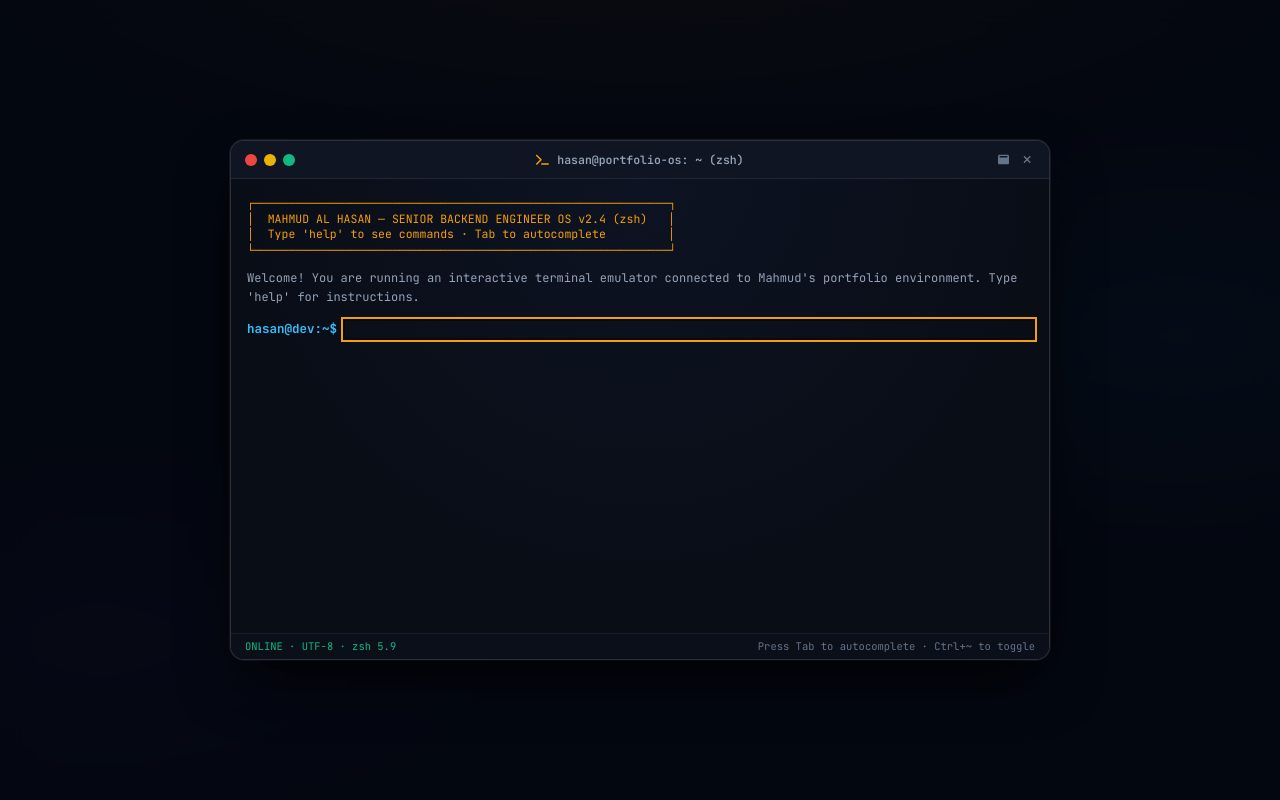
Test case: Terminal Component › executes help command and displays available commands
Type "help" into the field named "Terminal command prompt" at [689, 329], box [345,321,1033,338]
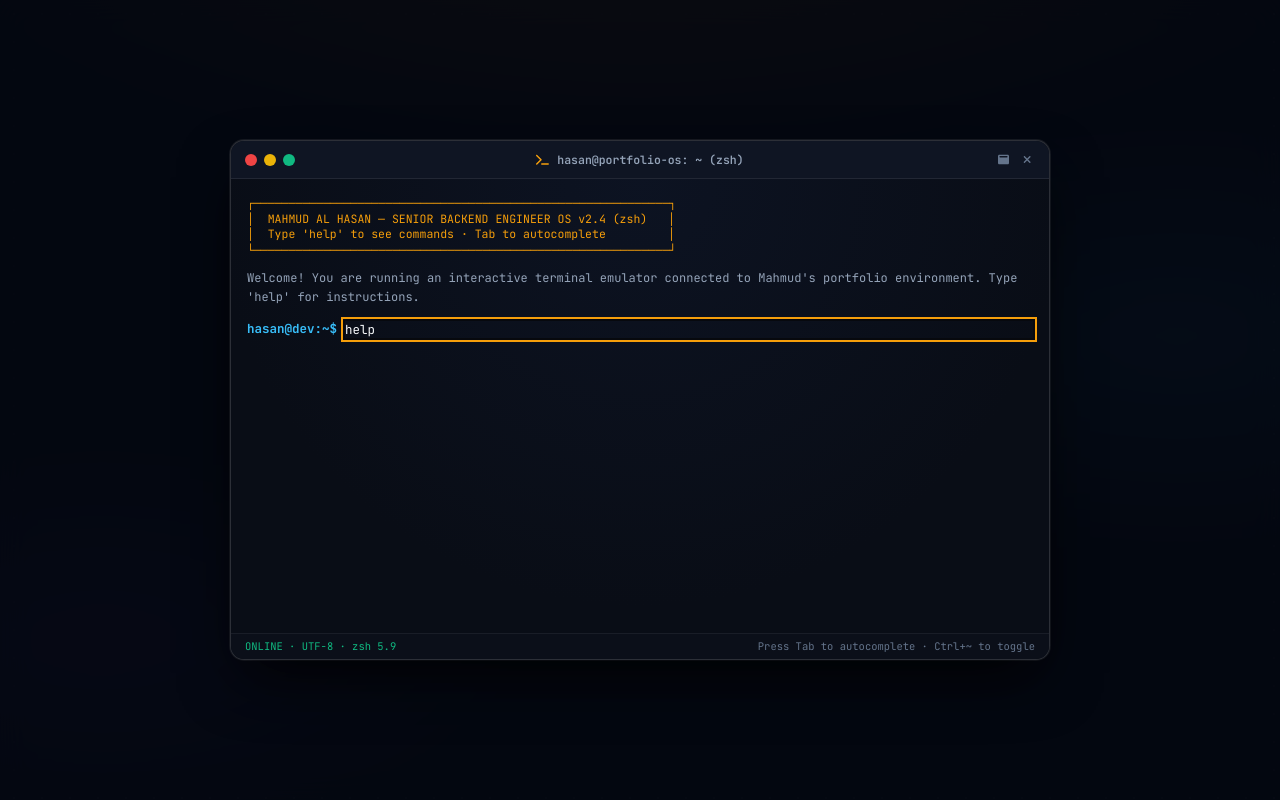
Press Enter in the field named "Terminal command prompt", box [345,321,1033,338]
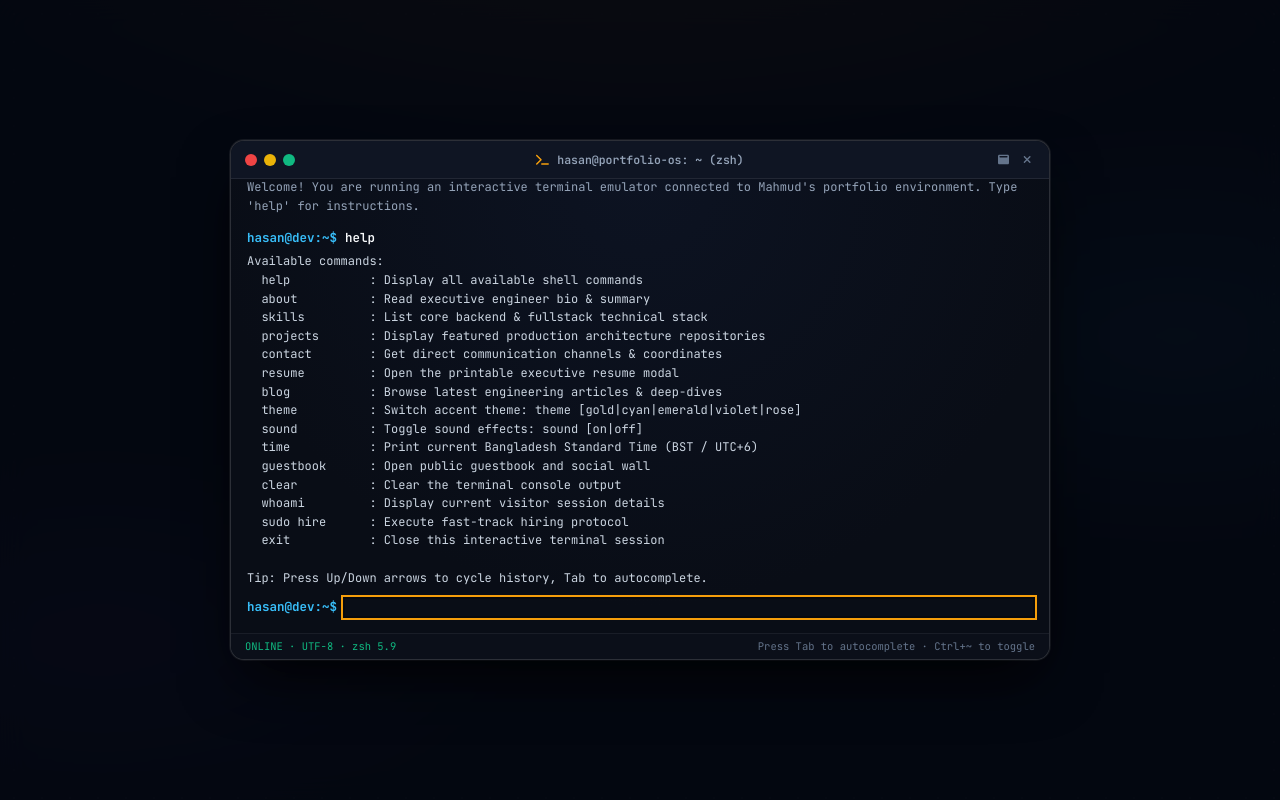
Now the text "Available commands:" is shown, box [247,253,801,586]
